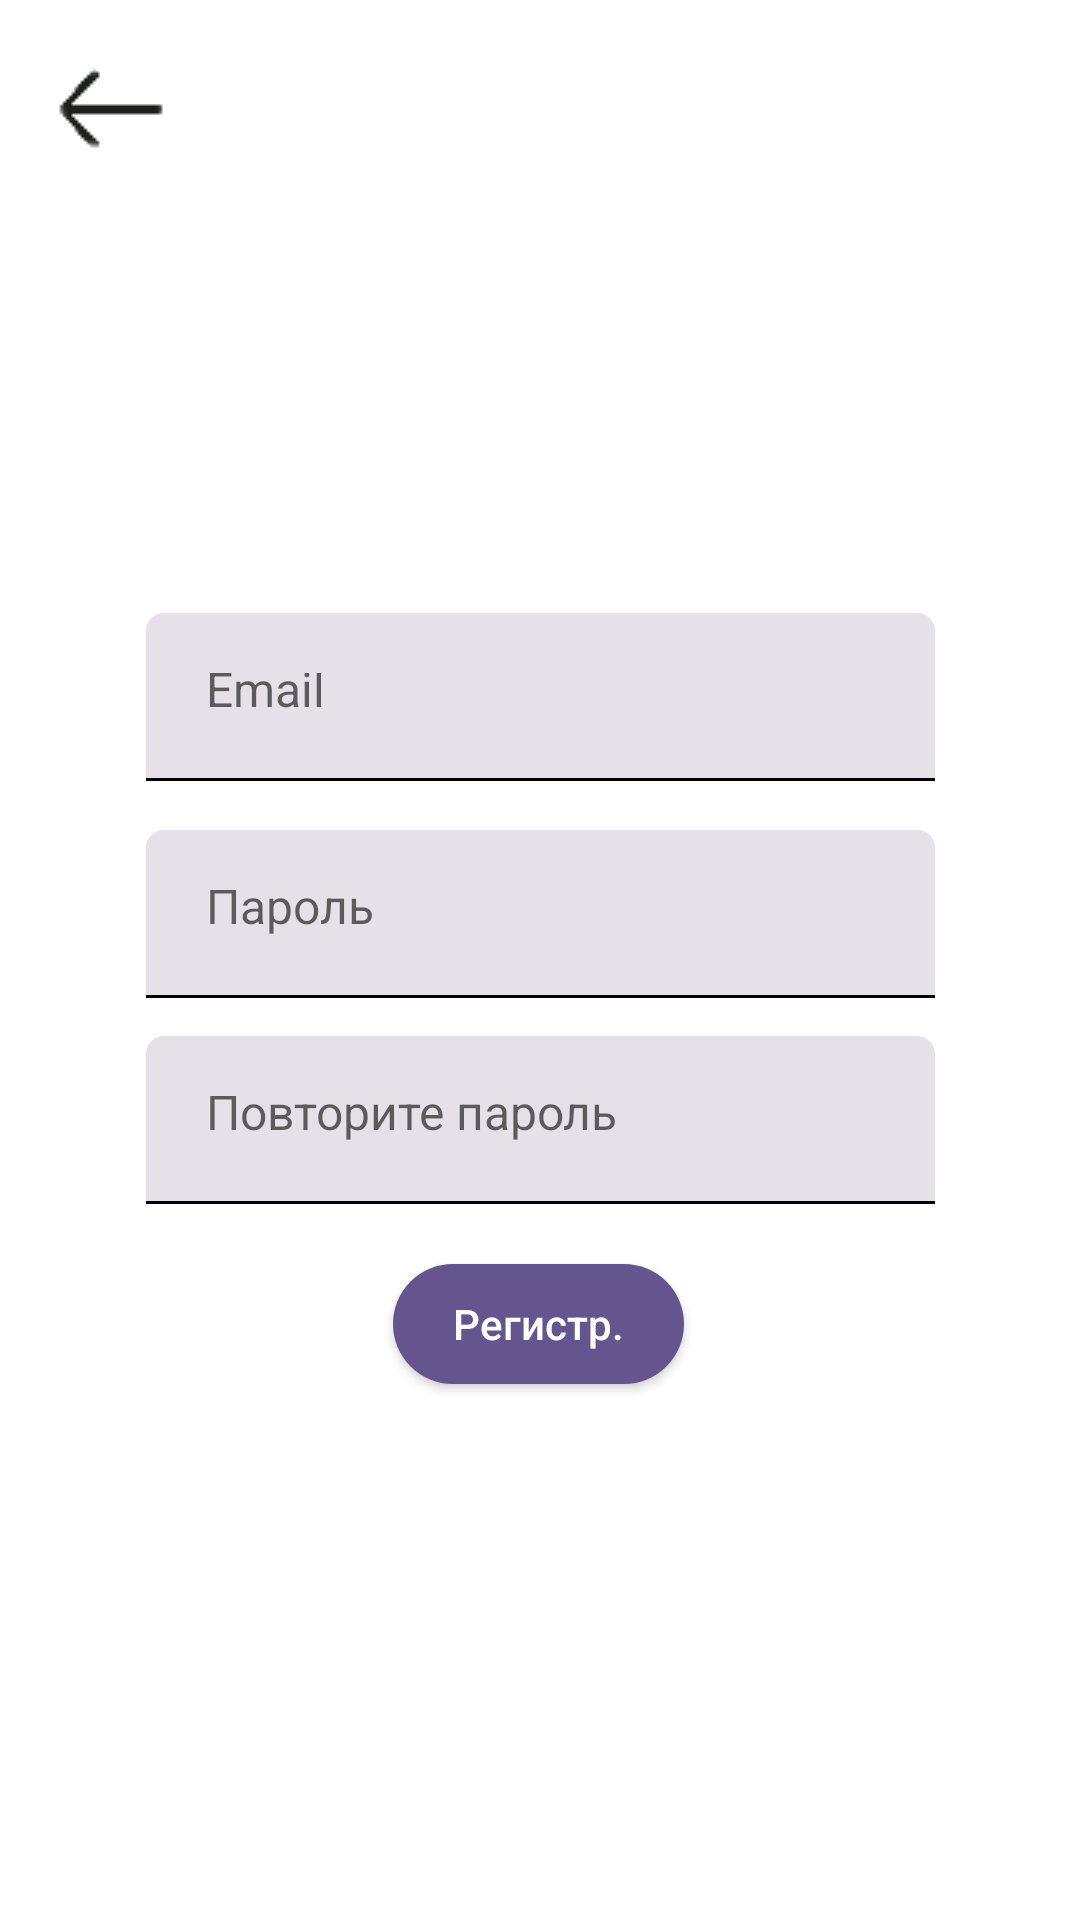

Where to tap for icons on this 1080×1920 app screen, as point (x, y):
back arrow: point (111, 108)
